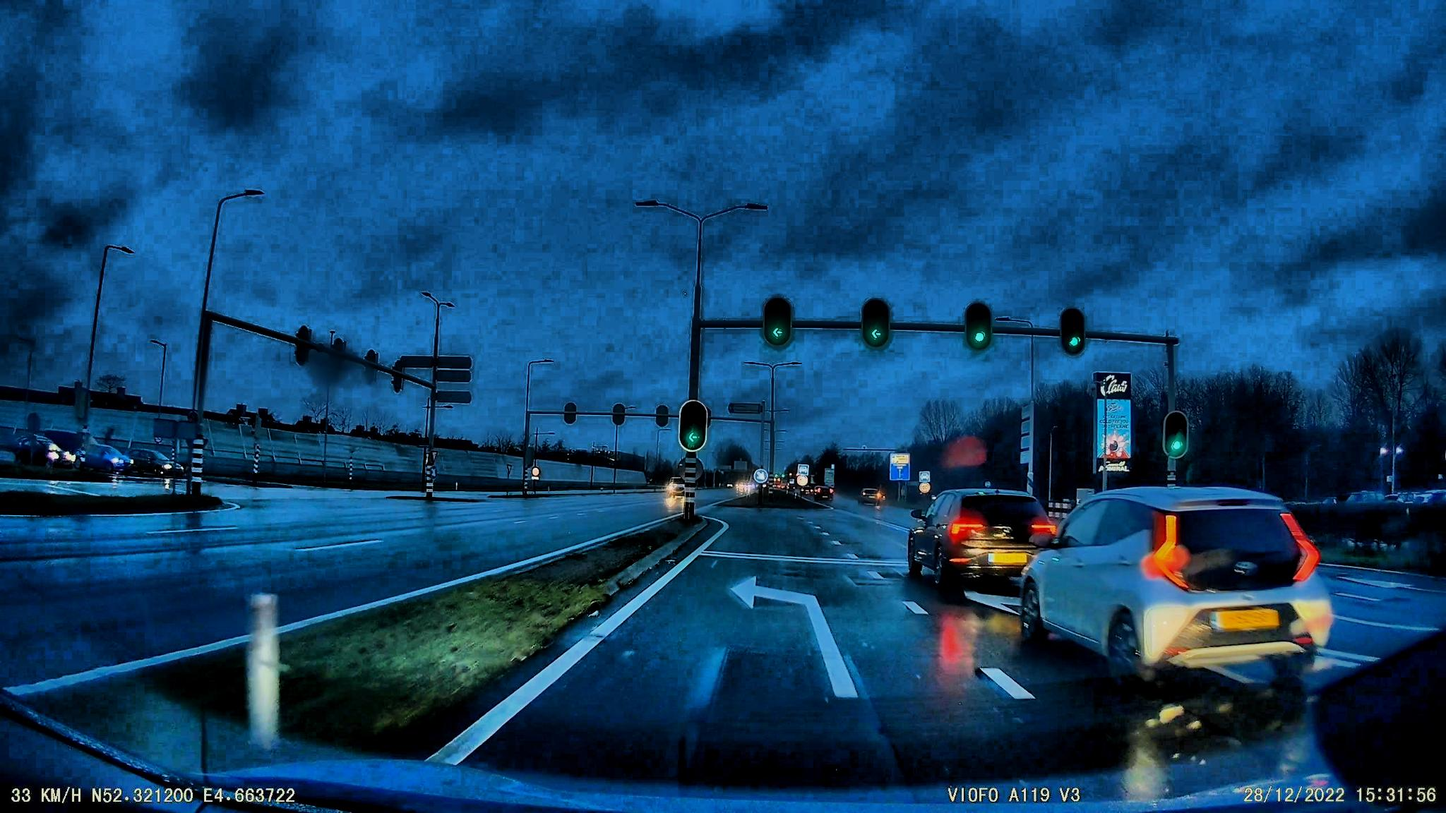Roads: (459, 510, 1342, 810), (0, 483, 664, 688)
